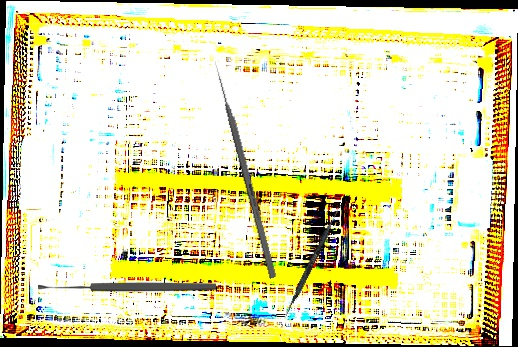Pusher: (211, 59, 278, 279)
Spatula Surgical: (283, 201, 344, 318)
Surgical Spoon: (38, 281, 216, 292)
